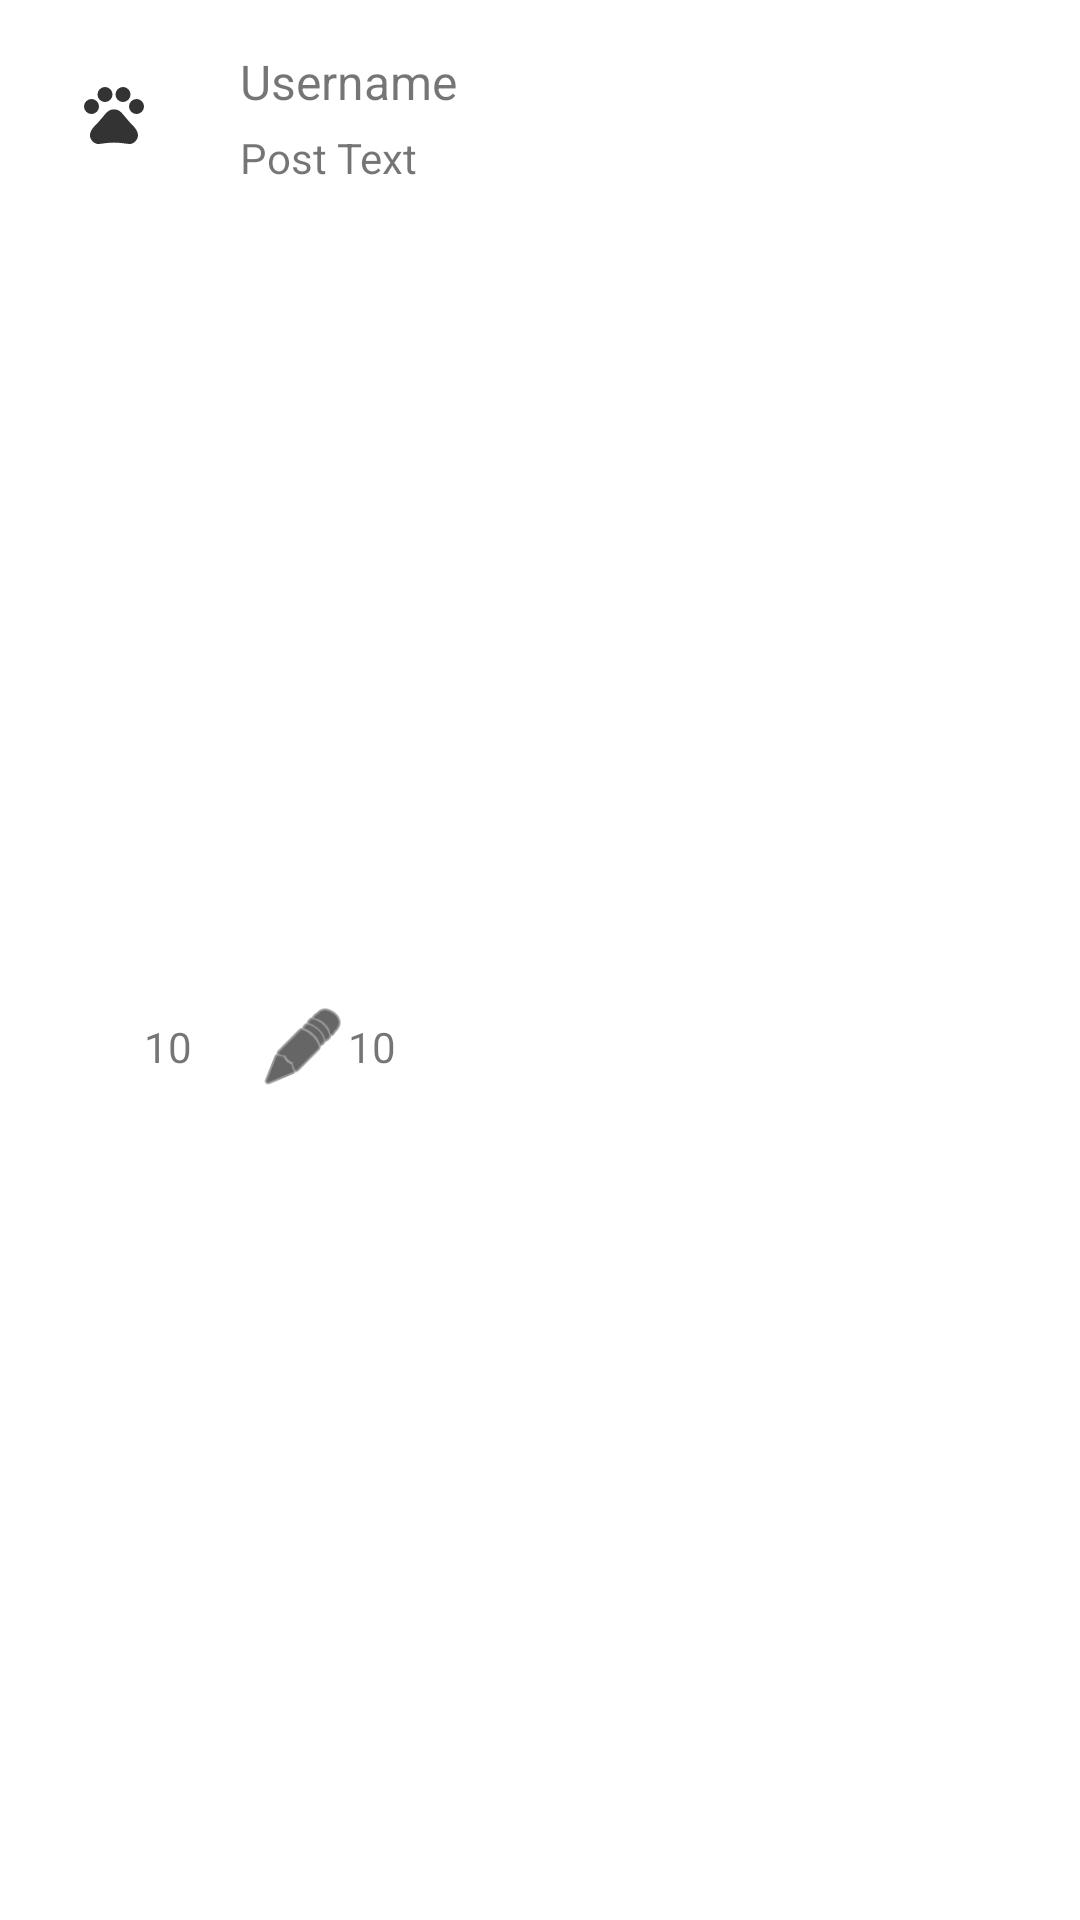

Icon bounding boxes for this 1080*1920 phone screenshot, format {"left": x1, "top": y1, "right": x2, "bottom": y2}:
Avatar: {"left": 84, "top": 87, "right": 144, "bottom": 144}
Comment: {"left": 264, "top": 1008, "right": 341, "bottom": 1085}
